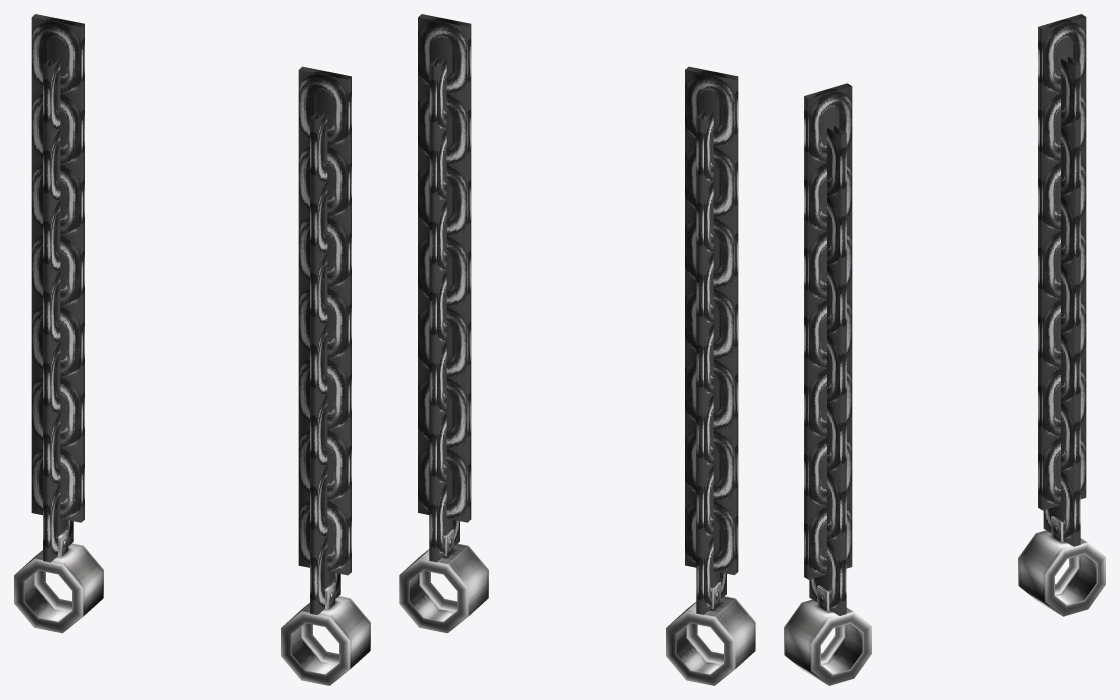
The model's file is SWORDLIGHT20_INST_CHAINCUFFS_LOD1_02.fbx.
3 views of the same model, side by side, from view 1: azimuth 30°, elevation 25°; view 2: azimuth 210°, elevation 25°; view 3: azimuth 270°, elevation 25° (orthographic). The views are drawn at different scales.
Parts seen in each view (by area): view 1: SWORDLIGHT20_INST_CHAINCUFFS_LOD1_02; view 2: SWORDLIGHT20_INST_CHAINCUFFS_LOD1_02; view 3: SWORDLIGHT20_INST_CHAINCUFFS_LOD1_02.
Part boxes in pixels (x1,y1,x2,y2): SWORDLIGHT20_INST_CHAINCUFFS_LOD1_02: [14, 14, 370, 685]; SWORDLIGHT20_INST_CHAINCUFFS_LOD1_02: [399, 14, 755, 685]; SWORDLIGHT20_INST_CHAINCUFFS_LOD1_02: [784, 14, 1105, 685].
Size of the model in its own units: 4630 by 12114 by 6069.
Materials: 2 (2 with a texture image).
